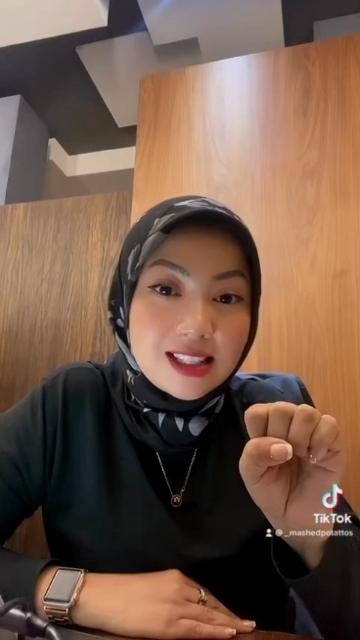S: (234, 396, 350, 548)
